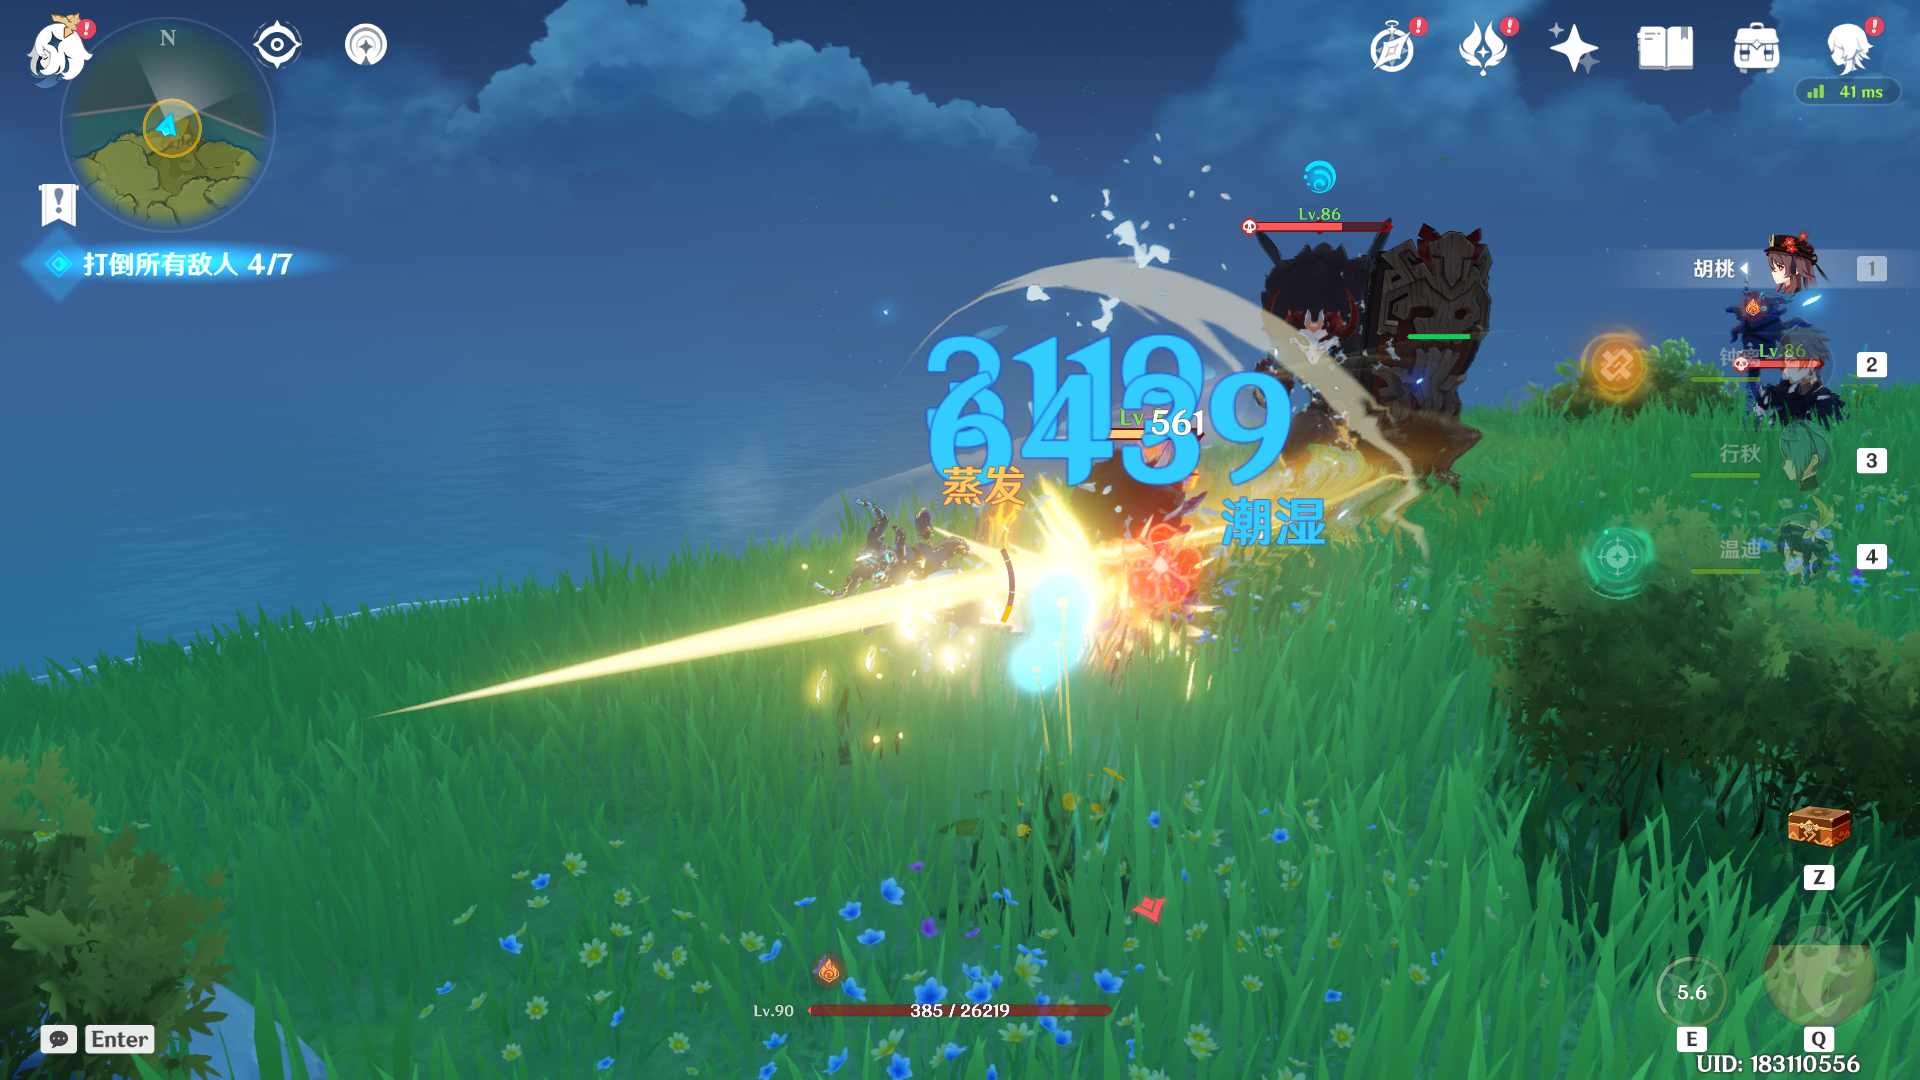bighili: (1220, 207, 1534, 498)
